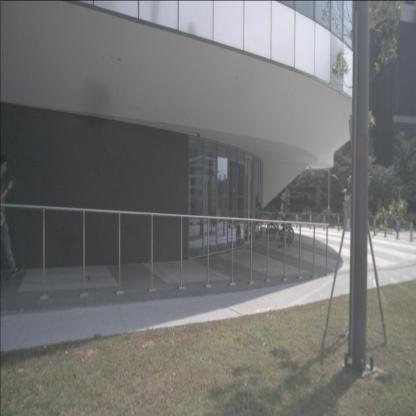human-pedestrian-adult: (0, 155, 23, 279)
vehicle-bicycle: (267, 209, 294, 243), (278, 214, 293, 248), (236, 219, 241, 241)
